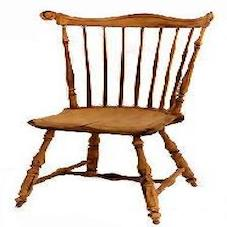chair: (22, 6, 213, 217)
